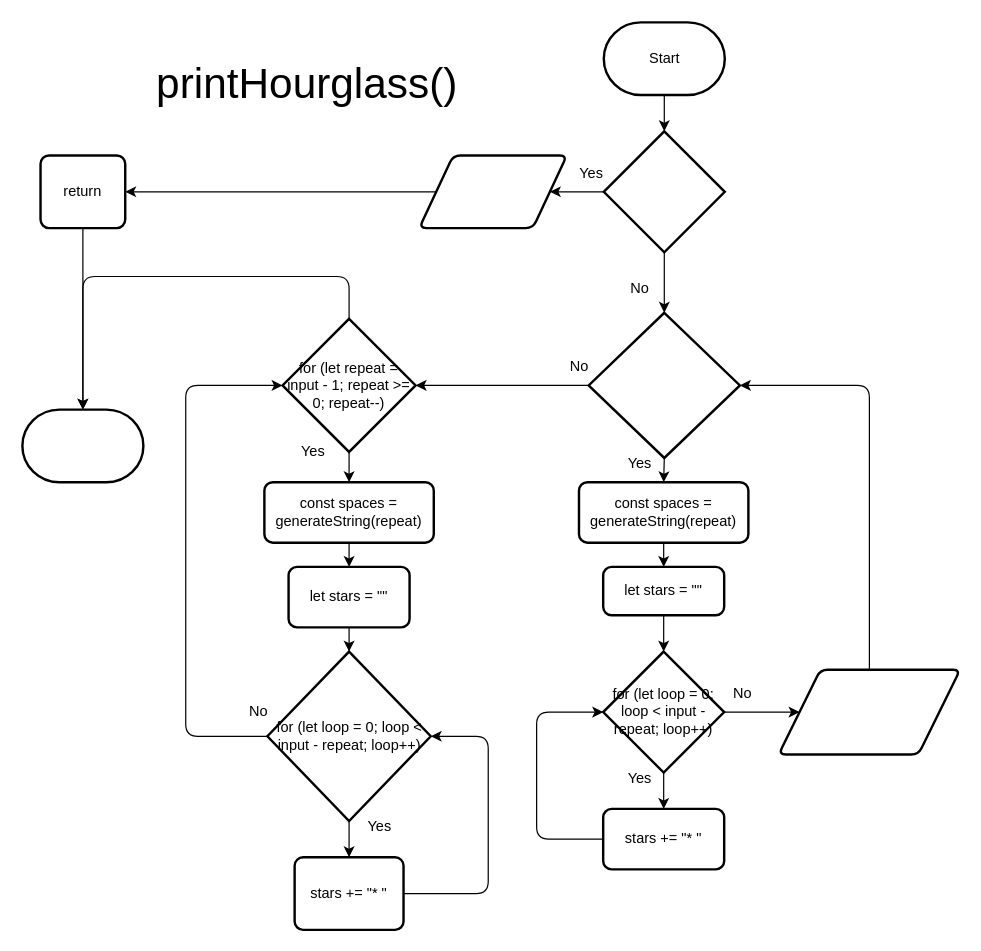
This 981x951 diagram has some shape labels left out. Each missing label, with the centre of its shape:
console.log(spaces + stars); // Manually trim the trailing space: [869,711]
for (let repeat = 0; repeat < input; repeat++): [664,385]
if (input < 1): [663,191]
print("Error: Input must be at least 1."): [492,191]
Stop: [82,445]
